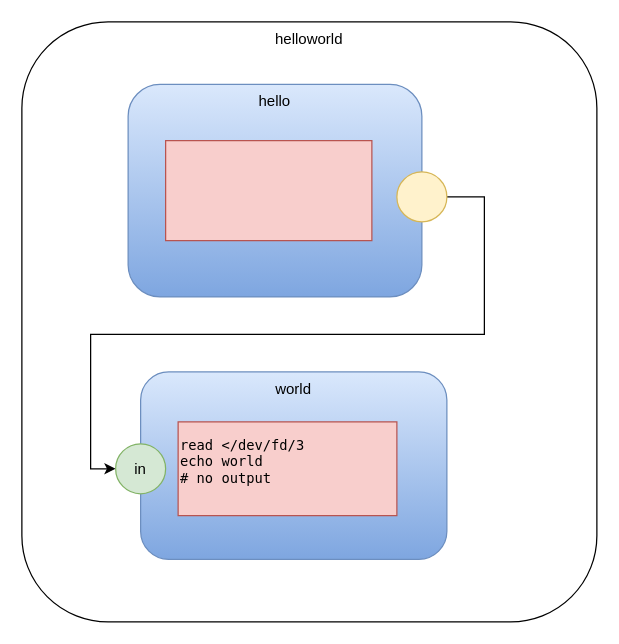
The diagram is 619 pixels wide and 644 high, and some of its shapes have lost their labels. The shapes that lost their labels are listed below. From the top down, each one's centre as x and y in pixels, then its label:
At point 268,190: "echo hello echo done >/dev/fd/4".
At point 421,196: "out".
